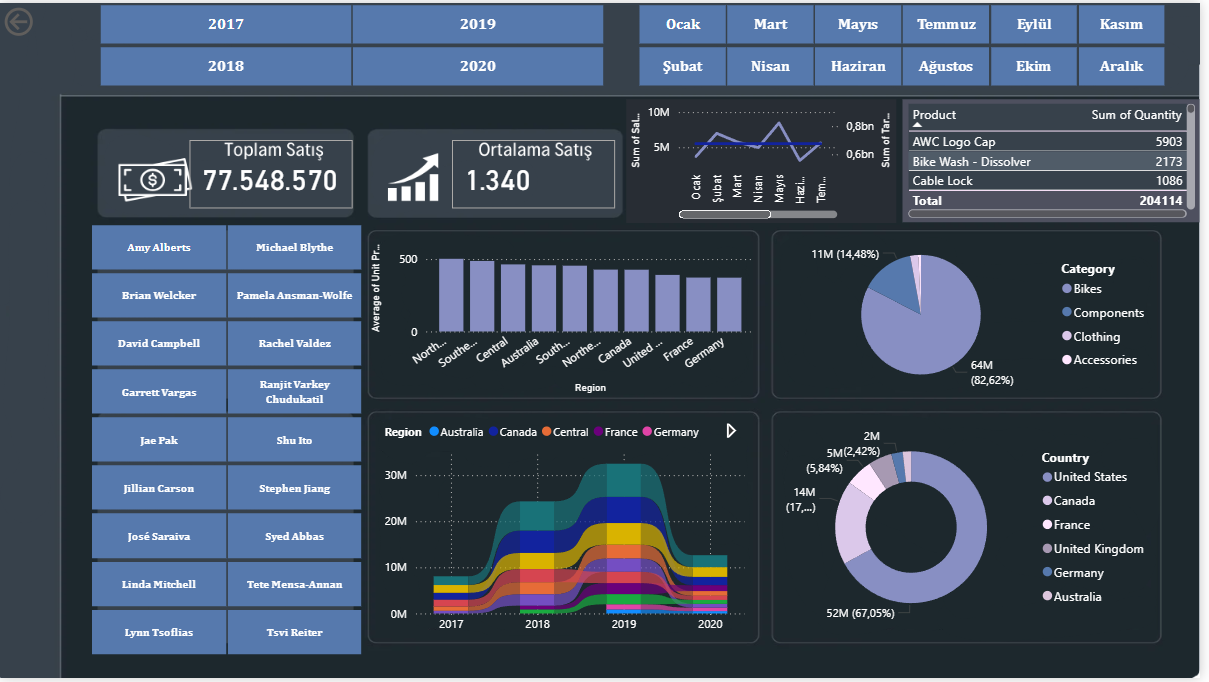

What the dashboard file says about the page in this screenshot:
{"tool":"powerbi","page":{"name":"1. sayfa","canvas":[1280,720],"ordinal":0},"visuals":[{"type":"slicer","fields":{"Values":["Sales.OrderDate.Varyasyon.Tarih Hiyerarşisi.Yıl"]},"box":[86.7,0,575.6,90],"z":0},{"type":"slicer","fields":{"Values":["Sales.OrderDate.Varyasyon.Tarih Hiyerarşisi.Ay"]},"box":[661.7,0,600,90],"z":1000},{"type":"cardVisual","fields":{"Data":["Sum(Sales.Sales)"]},"box":[197.6,141.7,184.5,83.3],"z":2000},{"type":"cardVisual","fields":{"Data":["Avg(Sales.Sales)"]},"box":[477.4,141.7,184.5,83.3],"z":3000},{"type":"slicer","fields":{"Values":["Salesperson.Salesperson"]},"box":[77.4,234.5,327.4,461.9],"z":4000},{"type":"pieChart","fields":{"Y":["Sum(Sales.Sales)"],"Category":["Product.Category"]},"box":[828.6,244,407.1,177.4],"z":5000},{"type":"columnChart","fields":{"Category":["Region.Region"],"Y":["Avg(Sales.Unit Price)"]},"box":[390.5,244,419,177.4],"z":6000},{"type":"donutChart","fields":{"Category":["Region.Country"],"Y":["Sum(Sales.Sales)"]},"box":[828.6,436.9,407.1,244],"z":7000},{"type":"ribbonChart","fields":{"Category":["Sales.OrderDate.Varyasyon.Tarih Hiyerarşisi.Yıl","Sales.OrderDate.Varyasyon.Tarih Hiyerarşisi.Ay"],"Series":["Region.Region"],"Y":["Sum(Sales.Sales)"]},"box":[404.8,436.9,394,244],"z":8000},{"type":"actionButton","box":[0,0,100,40],"z":9000},{"type":"tableEx","fields":{"Values":["Product.Product","Sum(Sales.Quantity)"]},"box":[963.1,103.1,316.9,131.5],"z":10000},{"type":"lineChart","fields":{"Y":["Sum(Sales.Sales)"],"Y2":["Sum(Targets.Target)"],"Category":["Sales.OrderDate.Varyasyon.Tarih Hiyerarşisi.Ay"]},"box":[668,103,288,132],"z":11000}]}

Visuals, with their boxes in screenshot pixels (x1, y1, x2, y2), scaled from the page's 1280x720 canvas onto the 1209x682 screenshot:
slicer - Sales.OrderDate.Varyasyon.Tarih Hiyerarşisi.Yıl: [82, 0, 626, 85]
slicer - Sales.OrderDate.Varyasyon.Tarih Hiyerarşisi.Ay: [625, 0, 1192, 85]
cardVisual - Sum(Sales.Sales): [187, 134, 361, 213]
cardVisual - Avg(Sales.Sales): [451, 134, 625, 213]
slicer - Salesperson.Salesperson: [73, 222, 382, 660]
pieChart - Sum(Sales.Sales) x Product.Category: [783, 231, 1167, 399]
columnChart - Region.Region x Avg(Sales.Unit Price): [369, 231, 765, 399]
donutChart - Region.Country x Sum(Sales.Sales): [783, 414, 1167, 645]
ribbonChart - Sales.OrderDate.Varyasyon.Tarih Hiyerarşisi.Yıl x Sales.OrderDate.Varyasyon.Tarih Hiyerarşisi.Ay: [382, 414, 754, 645]
actionButton: [0, 0, 94, 38]
tableEx - Product.Product x Sum(Sales.Quantity): [910, 98, 1208, 222]
lineChart - Sum(Sales.Sales) x Sum(Targets.Target): [631, 98, 903, 223]
